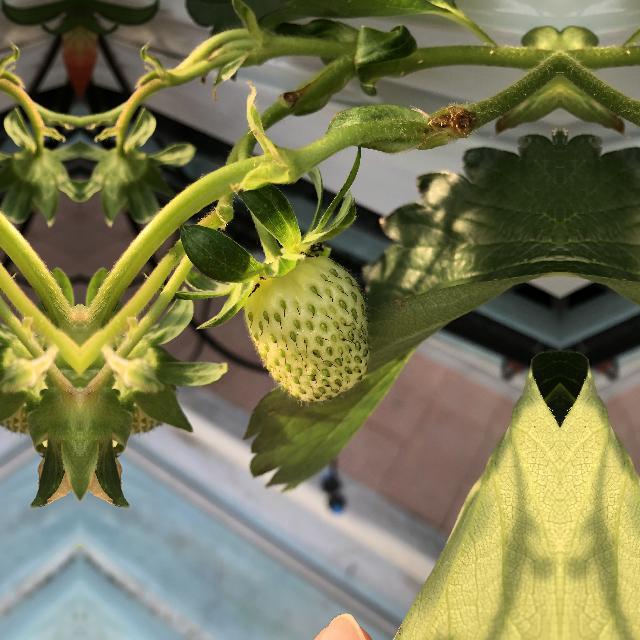Health_25: (242, 248, 378, 402)
